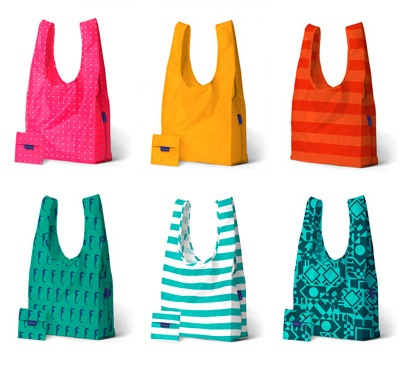nylon: (11, 20, 386, 342)
